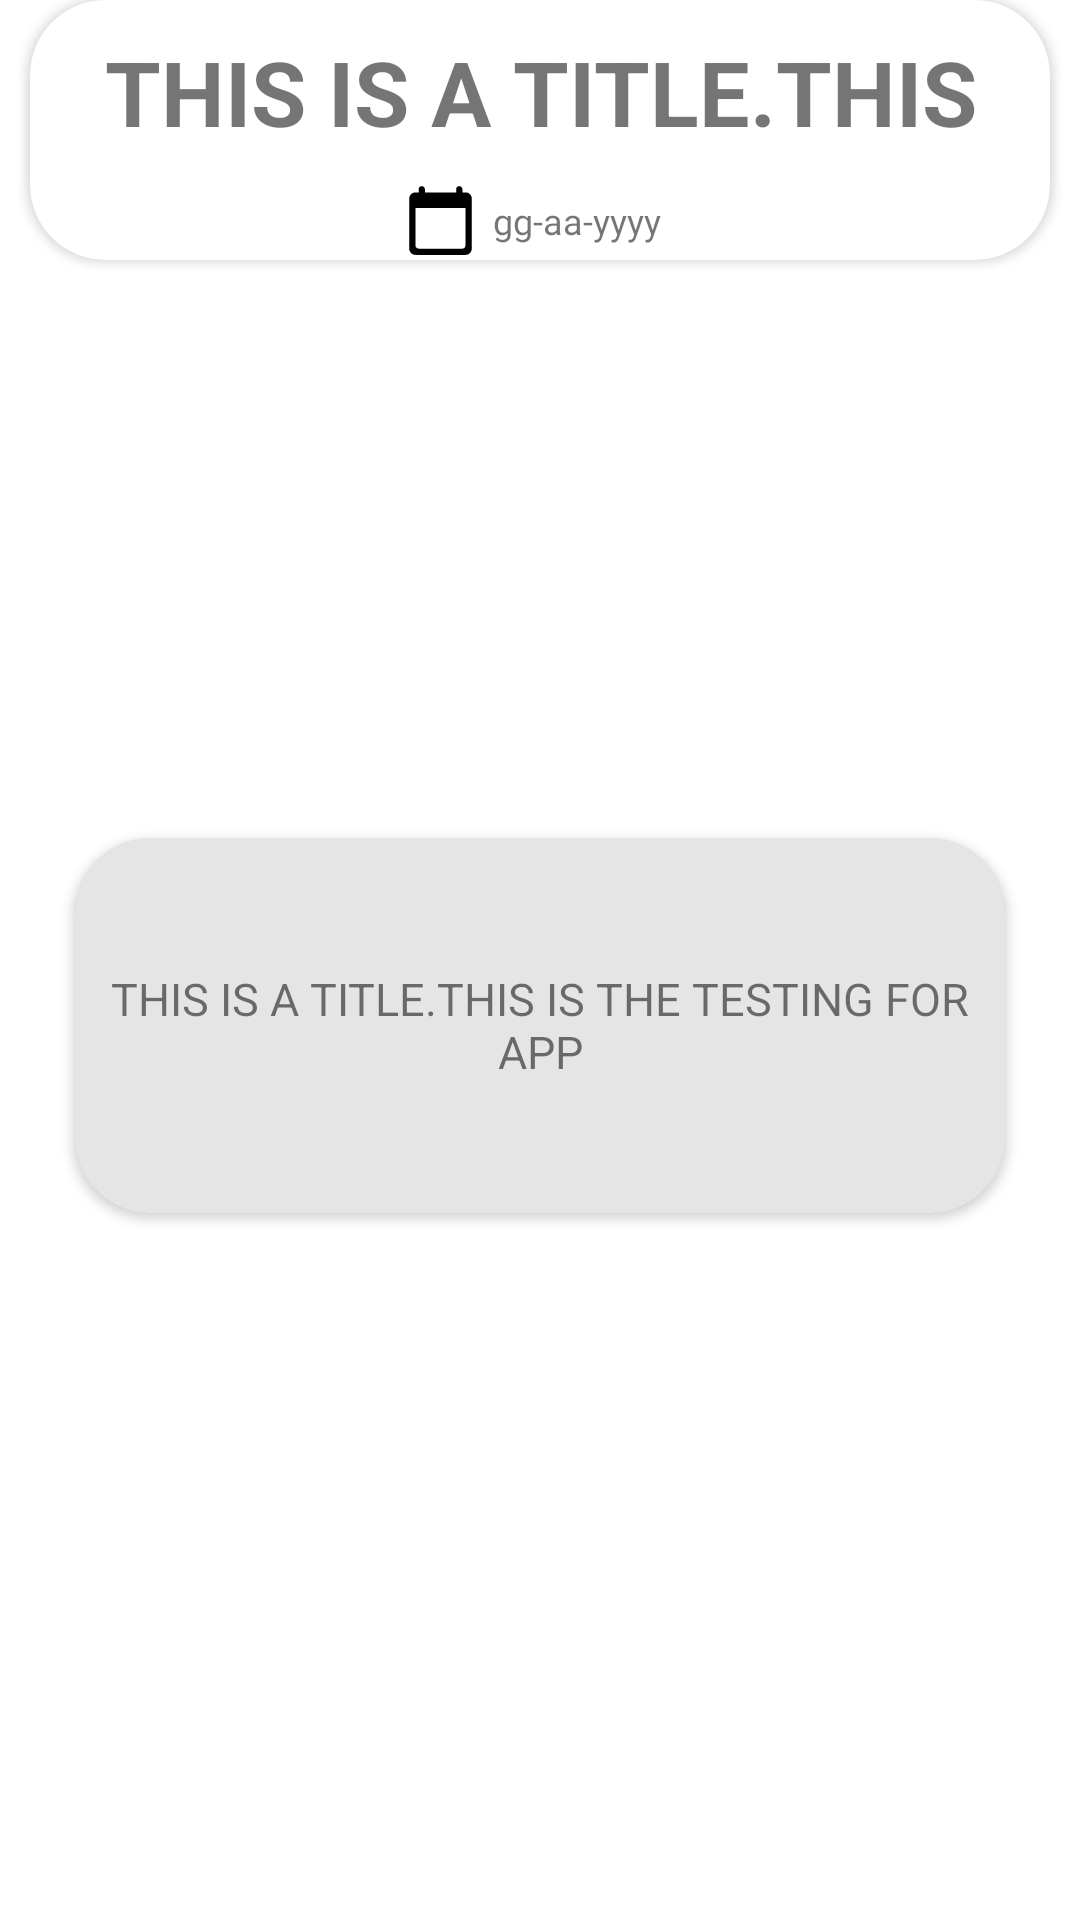

Screen size 1080 × 1920. Icon name, then its box in pixels as (x1, y1, x2, y2):
calendar today: (409, 186, 472, 255)
